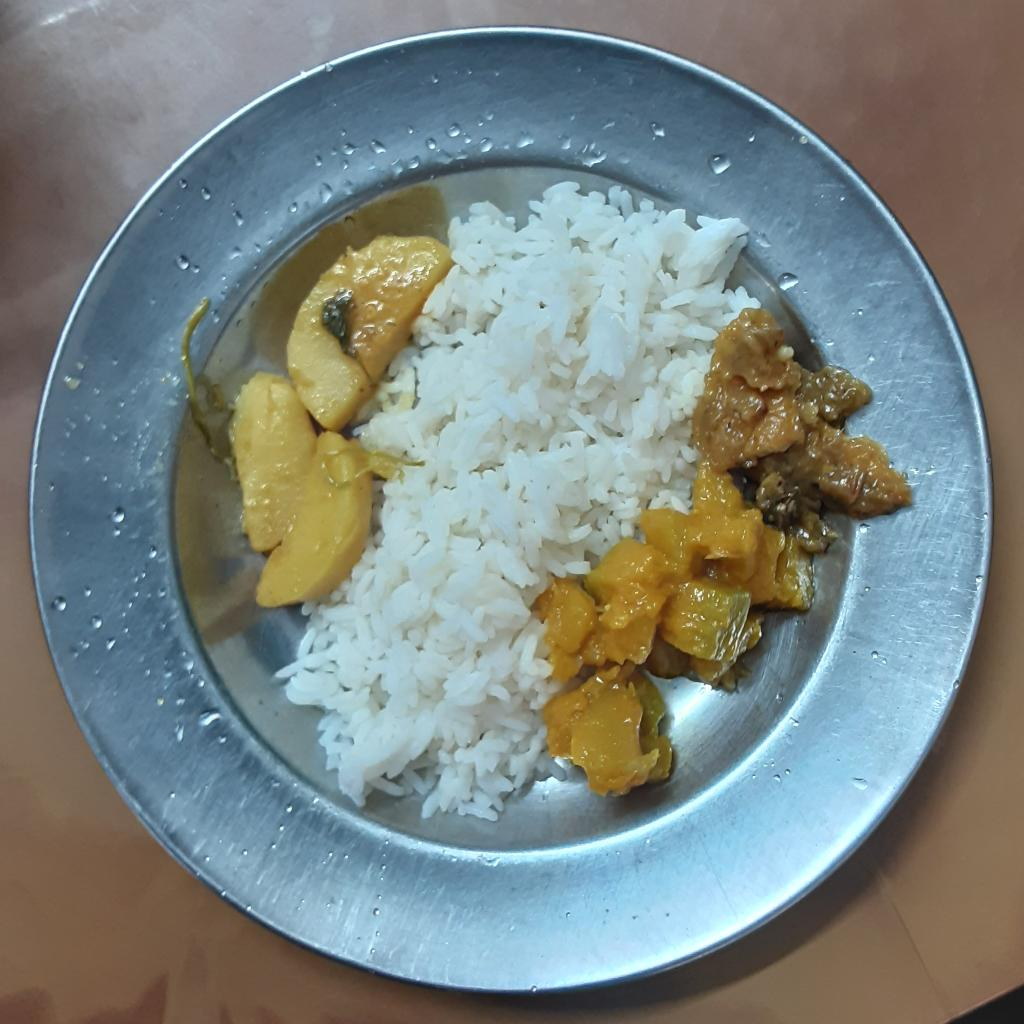achar: (689, 305, 918, 550)
kumra-vaji: (532, 470, 815, 798)
potato: (228, 233, 446, 607)
rice: (273, 180, 753, 820)
